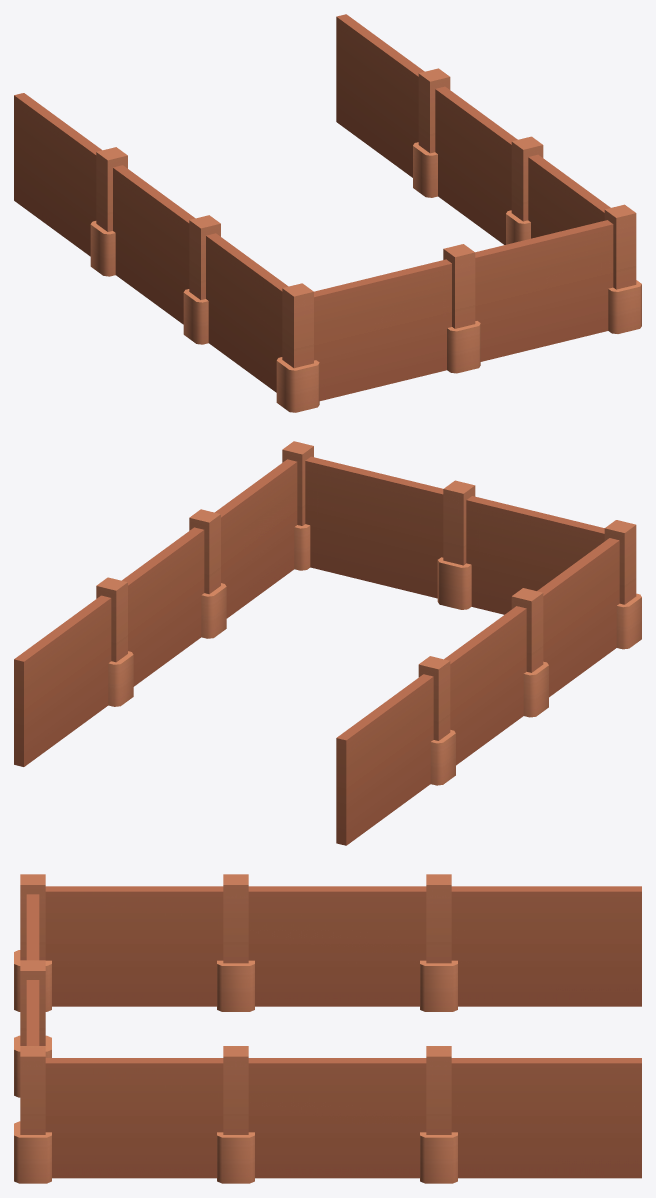
The model's file is fence-3x2.draco.glb.
3 views of the same model, one above another, from view 1: azimuth 30°, elevation 25°; view 2: azimuth 150°, elevation 25°; view 3: azimuth 270°, elevation 25° (orthographic). The views are drawn at different scales.
Parts seen in each view (by area): view 1: fence-3x2; view 2: fence-3x2; view 3: fence-3x2.
Boxes of the visible parts, x1,y1,x2,y2 form: fence-3x2: (14, 14, 641, 412); fence-3x2: (14, 441, 641, 845); fence-3x2: (14, 874, 641, 1183).
Bounding box in the file's own units: 0.875 × 0.27 × 1.24.
Materials: 1 (1 with a texture image).
